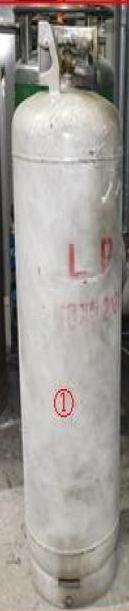cylinder: (0, 1, 129, 611)
